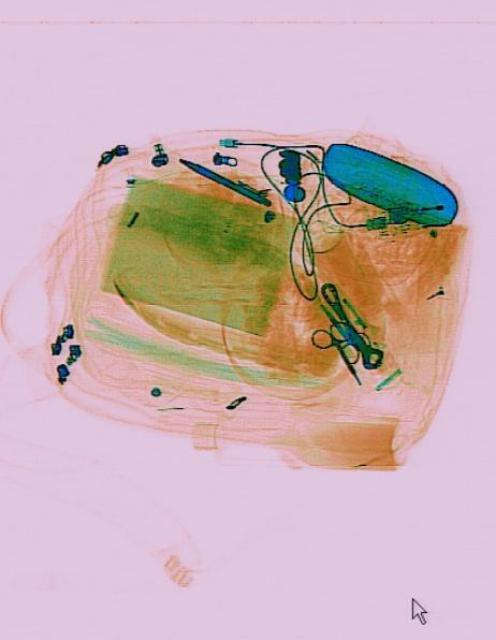Scissors: (307, 308, 376, 402)
